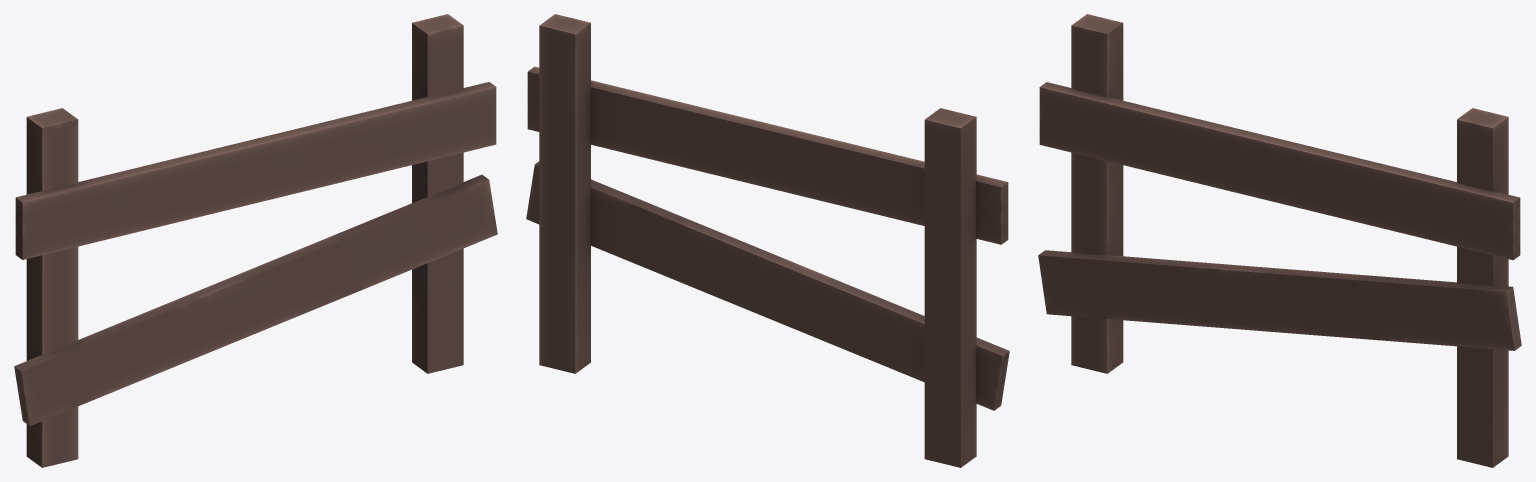
The model's file is Fence_8.fbx.
3 views of the same model, side by side, from view 1: azimuth 30°, elevation 25°; view 2: azimuth 150°, elevation 25°; view 3: azimuth 330°, elevation 25° (orthographic).
Visible parts, largest first — view 1: Fence_8; view 2: Fence_8; view 3: Fence_8.
Part boxes in pixels (left/top/right/bottom): Fence_8: left=14, top=14, right=497, bottom=467; Fence_8: left=526, top=14, right=1009, bottom=467; Fence_8: left=1038, top=14, right=1521, bottom=467.
Bounding box in the file's own units: 60.18 × 40.98 × 4.78.
